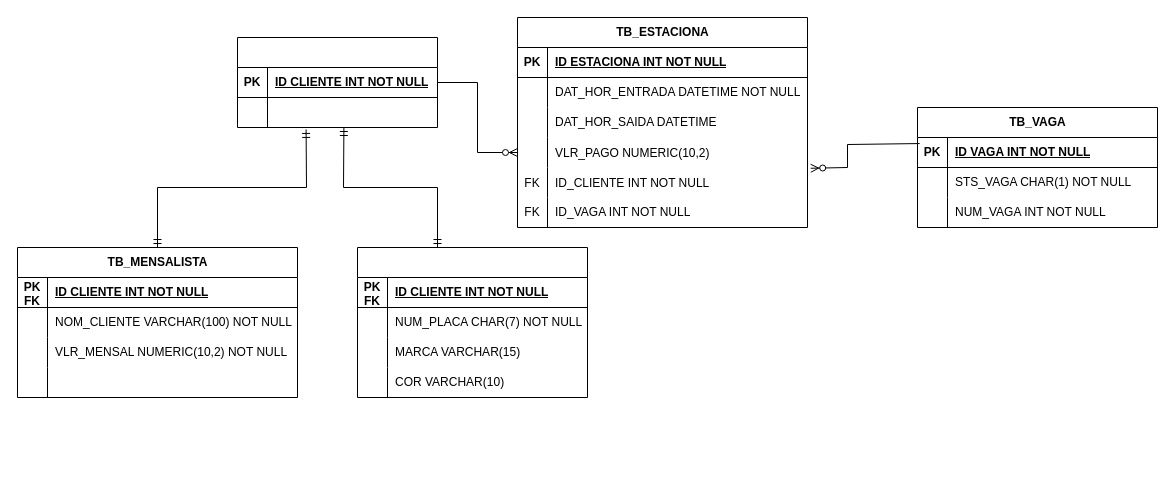
Some shapes in this 1175 by 495 pixel diagram are drawn without their labels. The box of each missing label's shape, as (x1, y1, x2, y2) in pixels:
TB_AVULSO: (356, 246, 588, 398)
TB_CLIENTE: (236, 36, 438, 128)
